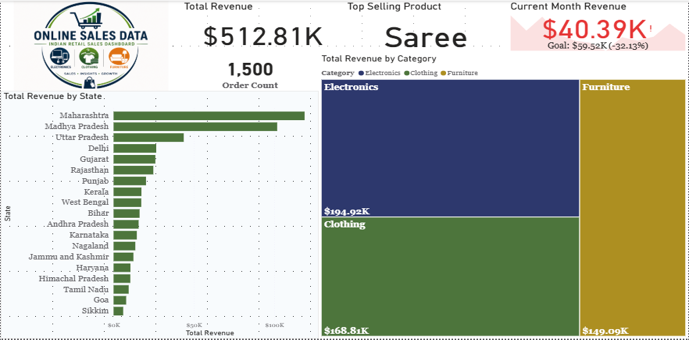

The dashboard page shown, as its layout file describes it:
{"tool":"powerbi","page":{"name":"Summary Dashboard","canvas":[1280,720],"ordinal":5},"visuals":[{"type":"kpi","title":"Current Month Revenue","fields":{"Indicator":["Measures Table.Total Revenue"],"Goal":["Measures Table.Revenue Previous Month"],"TrendLine":["Calendar.Month"]},"box":[944,0,336,112],"z":0},{"type":"card","title":"Total Revenue","fields":{"Values":["Measures Table.Total Revenue"]},"box":[336,0,304,112],"z":1000},{"type":"card","title":"Top Selling Product","fields":{"Values":["Min(details.SubCategory)"]},"box":[640,0,304,112],"z":2000},{"type":"barChart","fields":{"Y":["Measures Table.Total Revenue"],"Category":["orderss.State"]},"box":[0,192,592,528],"z":3000},{"type":"treemap","title":"Total Revenue by Category","fields":{"Values":["Measures Table.Total Revenue"],"Group":["details.Category"]},"box":[592,112,688,608],"z":4000},{"type":"card","fields":{"Values":["Measures Table.Order Count"]},"box":[336,112,256,80],"z":5000},{"type":"image","box":[0,0,336,192],"z":6000}]}

Visuals, with their boxes on the page's 1280x720 design canvas (x1, y1, x2, y2). These are canvas units, not pixel positions in the 689x340 screenshot, which may show the page scaled, cropped or inside an application window:
"Current Month Revenue" kpi: (944,0,1280,112)
"Total Revenue" card: (336,0,640,112)
"Top Selling Product" card: (640,0,944,112)
barChart - Measures Table.Total Revenue x orderss.State: (0,192,592,720)
"Total Revenue by Category" treemap: (592,112,1280,720)
card - Measures Table.Order Count: (336,112,592,192)
image: (0,0,336,192)
